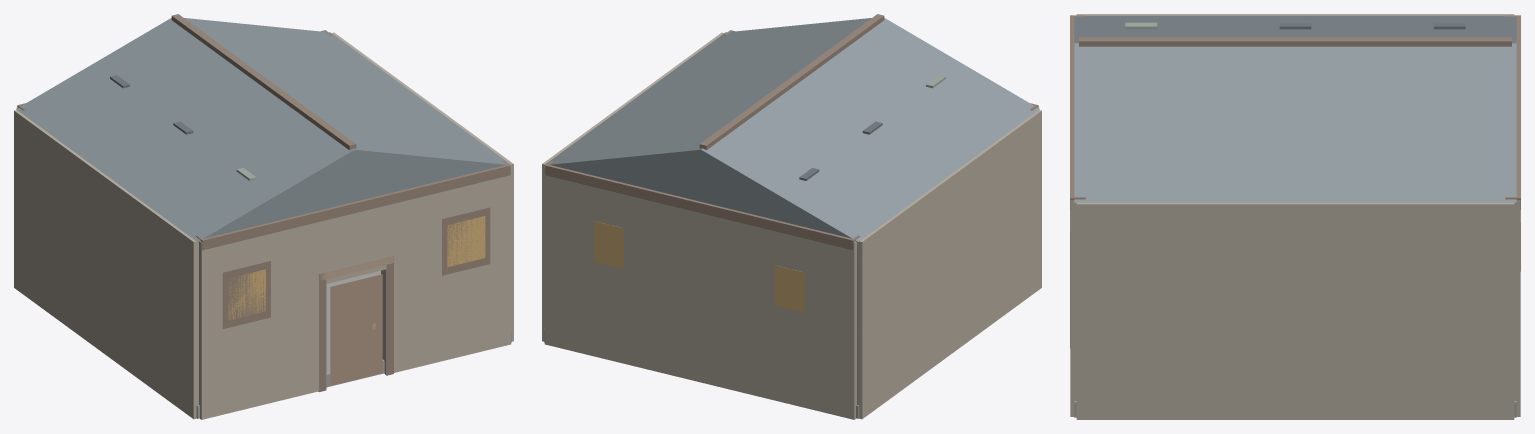
Rendered from svalich_cottage_inhabited.glb.
3 renders of one model, left to right at view 1: azimuth 30°, elevation 25°; view 2: azimuth 150°, elevation 25°; view 3: azimuth 270°, elevation 25°, orthographic. The views are drawn at different scales.
Parts seen in each view (by area): view 1: svalich_cottage_mat_01, svalich_cottage_mat_07, svalich_cottage_mat_02, svalich_cottage_mat_04, svalich_cottage_mat_06, svalich_cottage_mat_00, svalich_cottage_mat_03; view 2: svalich_cottage_mat_01, svalich_cottage_mat_07, svalich_cottage_mat_02, svalich_cottage_mat_06; view 3: svalich_cottage_mat_01, svalich_cottage_mat_07, svalich_cottage_mat_02, svalich_cottage_mat_08.
Boxes of the visible parts, x1,y1,x2,y2 form: svalich_cottage_mat_01: (14, 32, 513, 419); svalich_cottage_mat_07: (16, 18, 511, 241); svalich_cottage_mat_02: (17, 14, 510, 392); svalich_cottage_mat_04: (245, 219, 467, 385); svalich_cottage_mat_06: (228, 216, 485, 319); svalich_cottage_mat_00: (196, 270, 511, 418); svalich_cottage_mat_03: (318, 255, 394, 280); svalich_cottage_mat_01: (542, 32, 1041, 419); svalich_cottage_mat_07: (544, 18, 1039, 241); svalich_cottage_mat_02: (545, 14, 1038, 404); svalich_cottage_mat_06: (594, 221, 804, 312); svalich_cottage_mat_01: (1070, 14, 1520, 419); svalich_cottage_mat_07: (1074, 15, 1516, 202); svalich_cottage_mat_02: (1070, 15, 1520, 347); svalich_cottage_mat_08: (1279, 22, 1465, 29).
Size of the model in its own units: 3.97 by 2.79 by 3.98.
